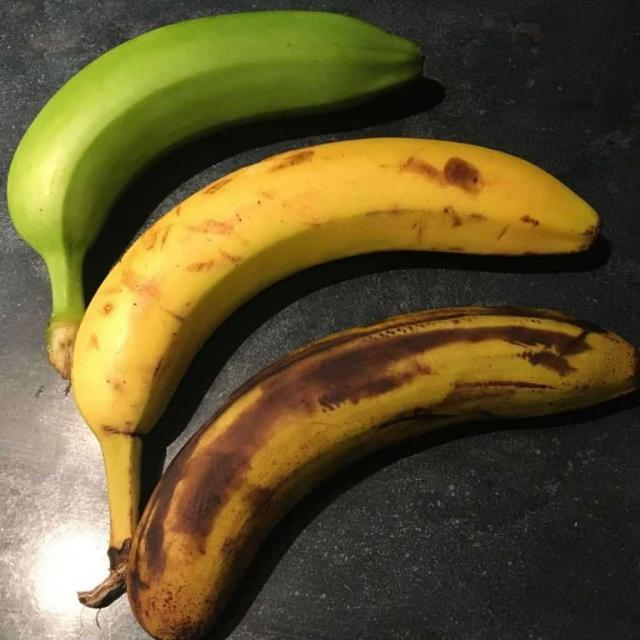Banana: (140, 300, 632, 640), (66, 136, 606, 430), (4, 5, 424, 252)
